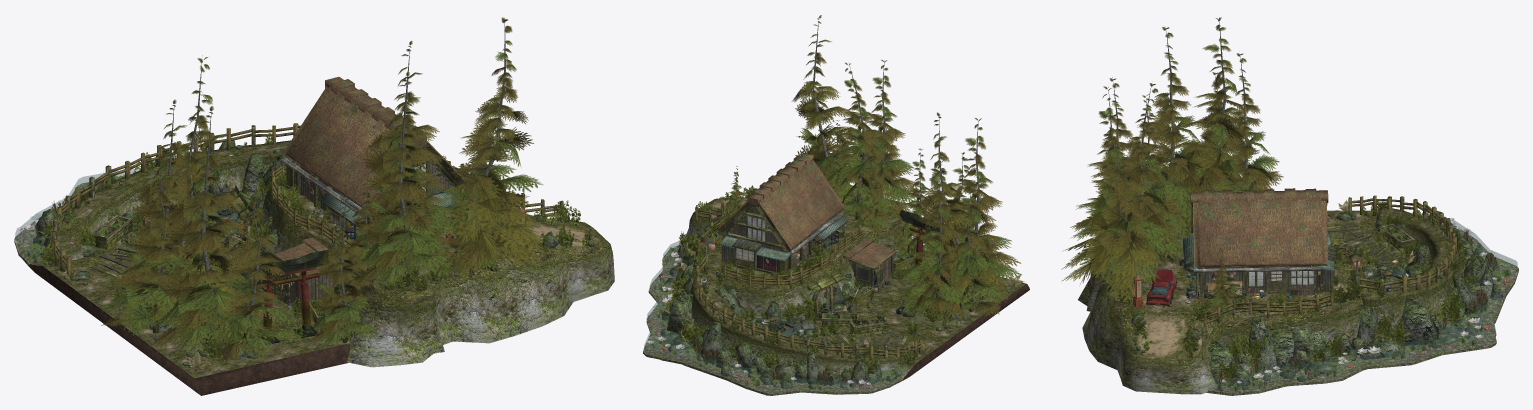
Rendered from Forest_Cabin.glb.
3 renders of one model, left to right at view 1: azimuth 30°, elevation 25°; view 2: azimuth 150°, elevation 25°; view 3: azimuth 270°, elevation 25°, orthographic. The views are drawn at different scales.
Visible parts, largest first — view 1: SM_Tree_M_TreeLeaf.001_0, SM_Hill_M_HillRocks.001_0, SM_Tree_M_TreeColoredLeaf.001_0, SM_Ground_M_GroundGrass.001_0, SM_House_M_HouseRoof.001_0, SM_Tree_M_TreeColoredLeafVar.001_0, SM_Weeds_M_Weeds.001_0, SM_Ground_M_GroundDirt.001_0, SM_Fence_M_Fence.001_0, SM_Rocks_M_Rocks.001_0, SM_Tree_M_TreeTrunk.001_0, SM_House_M_HouseTrim.001_0 (+10 smaller); view 2: SM_Tree_M_TreeLeaf.001_0, SM_Tree_M_TreeColoredLeaf.001_0, SM_Rocks_M_Rocks.001_0, SM_Ground_M_GroundGrass.001_0, SM_Weeds_M_Weeds.001_0, SM_Hill_M_HillRocks.001_0, SM_House_M_HouseRoof.001_0, SM_Fountain.001_M_Water.001_0, SM_Fence_M_Fence.001_0, SM_Ground_M_GroundRocks.001_0, SM_House_M_HouseTrim.001_0, SM_Tree_M_TreeColoredLeafVar.001_0 (+11 smaller); view 3: SM_Tree_M_TreeLeaf.001_0, SM_Hill_M_HillRocks.001_0, SM_Rocks_M_Rocks.001_0, SM_House_M_HouseRoof.001_0, SM_Weeds_M_Weeds.001_0, SM_Ground_M_GroundGrass.001_0, SM_Tree_M_TreeColoredLeaf.001_0, SM_Tree_M_TreeColoredLeafVar.001_0, SM_Fountain.001_M_Water.001_0, SM_Ground_M_GroundRocks.001_0, SM_Fence_M_Fence.001_0, SM_House_M_HouseTrim.001_0 (+8 smaller).
Part boxes in pixels (x1,y1,x2,y2): SM_Tree_M_TreeLeaf.001_0: (101,17,533,363); SM_Hill_M_HillRocks.001_0: (49,140,614,367); SM_Tree_M_TreeColoredLeaf.001_0: (102,29,543,356); SM_Ground_M_GroundGrass.001_0: (43,142,610,378); SM_House_M_HouseRoof.001_0: (271,76,465,276); SM_Tree_M_TreeColoredLeafVar.001_0: (146,64,545,322); SM_Weeds_M_Weeds.001_0: (37,132,602,371); SM_Ground_M_GroundDirt.001_0: (29,264,350,395); SM_Fence_M_Fence.001_0: (52,123,563,276); SM_Rocks_M_Rocks.001_0: (27,137,594,367); SM_Tree_M_TreeTrunk.001_0: (152,23,505,351); SM_House_M_HouseTrim.001_0: (89,142,467,331); SM_Tree_M_TreeLeaf.001_0: (726,15,1020,319); SM_Tree_M_TreeColoredLeaf.001_0: (722,24,1021,316); SM_Rocks_M_Rocks.001_0: (652,195,1011,389); SM_Ground_M_GroundGrass.001_0: (693,197,1024,364); SM_Weeds_M_Weeds.001_0: (657,185,1024,378); SM_Hill_M_HillRocks.001_0: (685,213,915,374); SM_House_M_HouseRoof.001_0: (718,153,896,268); SM_Fountain.001_M_Water.001_0: (644,241,910,392); SM_Fence_M_Fence.001_0: (695,202,922,360); SM_Ground_M_GroundRocks.001_0: (643,246,903,395); SM_House_M_HouseTrim.001_0: (701,202,915,350); SM_Tree_M_TreeColoredLeafVar.001_0: (795,52,1002,297); SM_Tree_M_TreeLeaf.001_0: (1079,17,1283,312); SM_Hill_M_HillRocks.001_0: (1078,207,1464,394); SM_Rocks_M_Rocks.001_0: (1131,211,1503,391); SM_House_M_HouseRoof.001_0: (1185,188,1328,266); SM_Weeds_M_Weeds.001_0: (1107,200,1487,385); SM_Ground_M_GroundGrass.001_0: (1105,208,1454,363); SM_Tree_M_TreeColoredLeaf.001_0: (1070,27,1279,315); SM_Tree_M_TreeColoredLeafVar.001_0: (1061,59,1242,303); SM_Fountain.001_M_Water.001_0: (1206,220,1517,392); SM_Ground_M_GroundRocks.001_0: (1206,225,1518,395); SM_Fence_M_Fence.001_0: (1183,195,1456,360); SM_House_M_HouseTrim.001_0: (1189,203,1407,299).
Size of the model in its own units: 30.04 by 20.15 by 31.2.
Materials: 30 (30 with a texture image).
